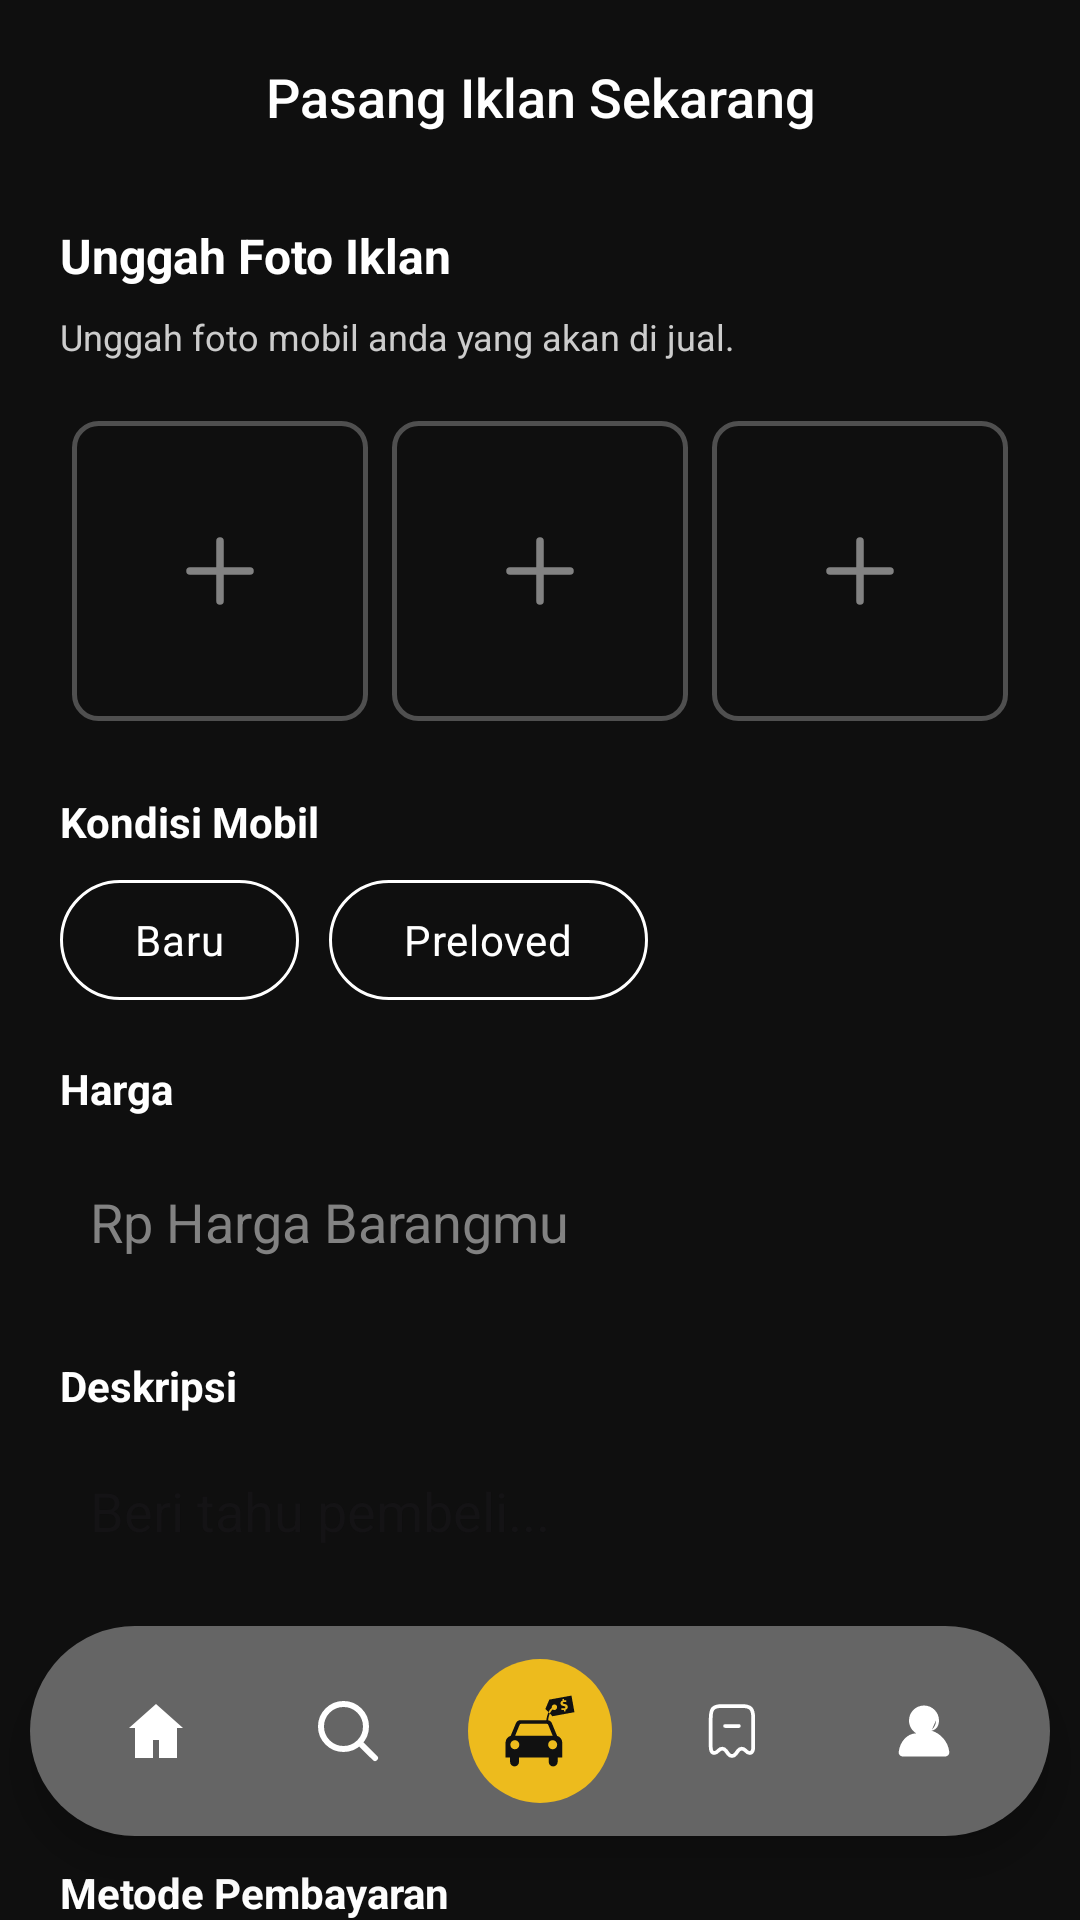

Icon bounding boxes for this 1080 × 1920 phone screenshot, format (x1,y1,x2,y2):
home: (129,1704,183,1758)
profile: (898,1705,950,1757)
search: (318,1701,378,1761)
sell: (468,1659,612,1803)
Tambah Foto: (186,537,254,605), (506,537,574,605), (826,537,894,605)
